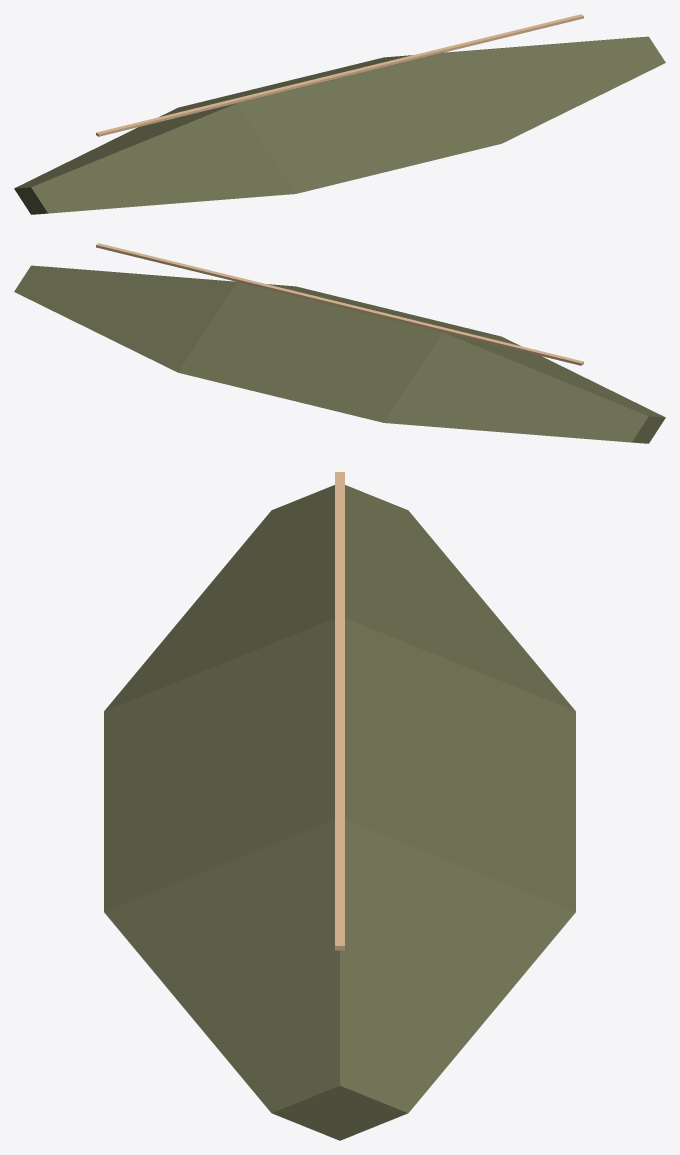
3 views of the same model, one above another, from view 1: azimuth 30°, elevation 25°; view 2: azimuth 150°, elevation 25°; view 3: azimuth 270°, elevation 25° (orthographic). The views are drawn at different scales.
Visible parts, largest first — view 1: body; view 2: body; view 3: body.
Boxes of the visible parts, box(x1,y1,x2,y2) form: body: box(14, 14, 665, 214); body: box(14, 243, 665, 443); body: box(104, 472, 575, 1140).
Size of the model in its own units: 2.1 by 0.3213 by 0.6945.
